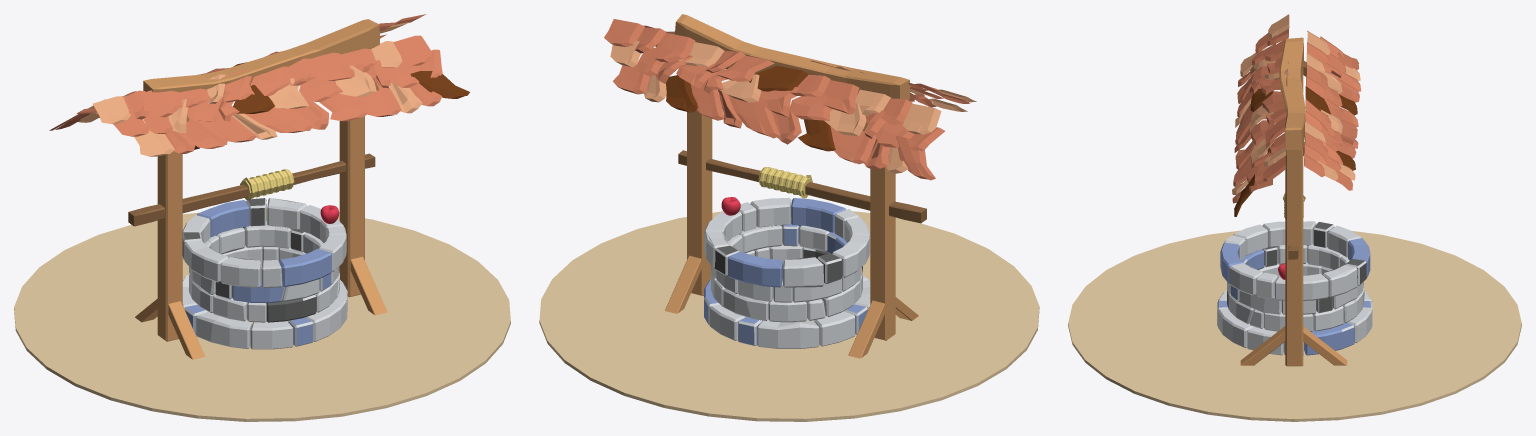
The model's file is polywell.glb.
3 views of the same model, side by side, from view 1: azimuth 30°, elevation 25°; view 2: azimuth 150°, elevation 25°; view 3: azimuth 270°, elevation 25° (orthographic). The views are drawn at different scales.
Visible parts, largest first — view 1: Circle, roof, Cube.003, Cube.004, Cube, Cube.002, Cube.005, Cube.001, Cube.008, Cube.013, Cube.007, Cylinder (+1 smaller); view 2: Circle, roof.001, Cube.003, Cube.004, Cube, Cube.002, Cube.005, Cube.001, Cube.008, Cube.013, roof, Cylinder (+1 smaller); view 3: Circle, roof, roof.001, Cube.003, Cube.008, Cube.002, Cube, Cube.001, Cube.005, Cube.007, Cube.006.
Boxes of the visible parts, x1=… form: Circle: x1=14, y1=209, x2=510, y2=421; roof: x1=93, y1=35, x2=469, y2=156; Cube.003: x1=182, y1=198, x2=346, y2=288; Cube.004: x1=135, y1=151, x2=204, y2=359; Cube: x1=182, y1=265, x2=347, y2=349; Cube.002: x1=189, y1=221, x2=339, y2=302; Cube.005: x1=143, y1=19, x2=379, y2=94; Cube.001: x1=188, y1=245, x2=339, y2=322; Cube.008: x1=339, y1=116, x2=364, y2=297; Cube.013: x1=128, y1=153, x2=375, y2=226; Cube.007: x1=350, y1=256, x2=387, y2=315; Cylinder: x1=240, y1=169, x2=294, y2=200; Circle: x1=539, y1=211, x2=1039, y2=421; roof.001: x1=604, y1=19, x2=944, y2=180; Cube.003: x1=704, y1=197, x2=869, y2=287; Cube.004: x1=848, y1=138, x2=918, y2=358; Cube: x1=704, y1=275, x2=870, y2=348; Cube.002: x1=711, y1=221, x2=862, y2=302; Cube.005: x1=674, y1=14, x2=909, y2=99; Cube.001: x1=711, y1=243, x2=862, y2=322; Cube.008: x1=687, y1=110, x2=712, y2=295; Cube.013: x1=678, y1=150, x2=926, y2=223; roof: x1=643, y1=25, x2=976, y2=111; Cylinder: x1=758, y1=167, x2=812, y2=198; Circle: x1=1068, y1=230, x2=1521, y2=421; roof: x1=1232, y1=14, x2=1289, y2=216; roof.001: x1=1304, y1=30, x2=1361, y2=190; Cube.003: x1=1220, y1=221, x2=1370, y2=300; Cube.008: x1=1285, y1=147, x2=1303, y2=366; Cube.002: x1=1227, y1=244, x2=1363, y2=314; Cube: x1=1217, y1=290, x2=1372, y2=355; Cube.001: x1=1227, y1=262, x2=1364, y2=331; Cube.005: x1=1279, y1=37, x2=1305, y2=150; Cube.007: x1=1240, y1=326, x2=1285, y2=365; Cube.006: x1=1303, y1=326, x2=1347, y2=365.
Size of the model in its own units: 19.83 by 11.83 by 19.83.
